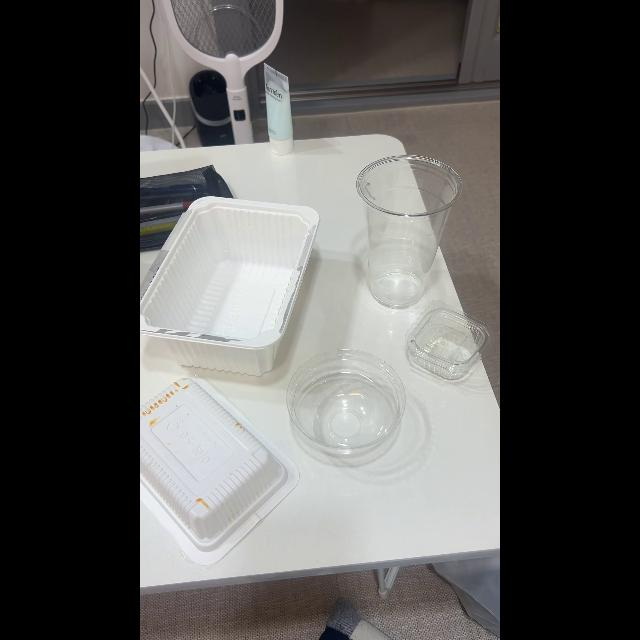clean: (140, 195, 318, 373), (290, 353, 412, 461), (353, 160, 441, 306), (417, 314, 488, 381)
dirty: (142, 372, 274, 520)
